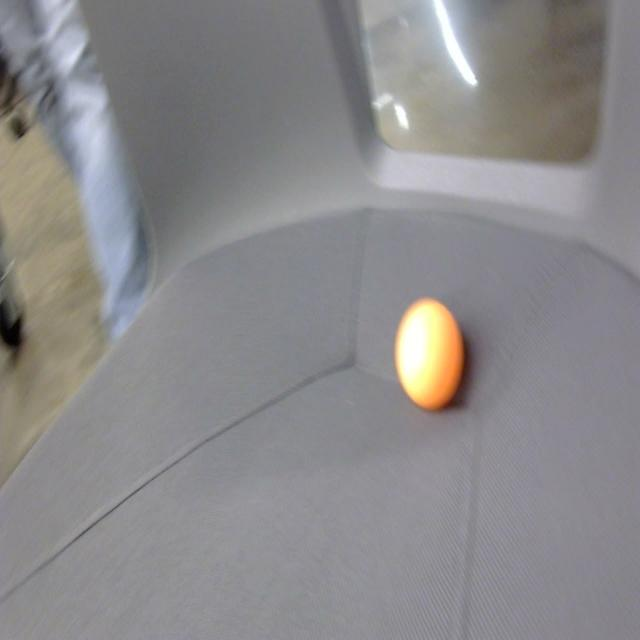ball: (394, 297, 467, 413)
